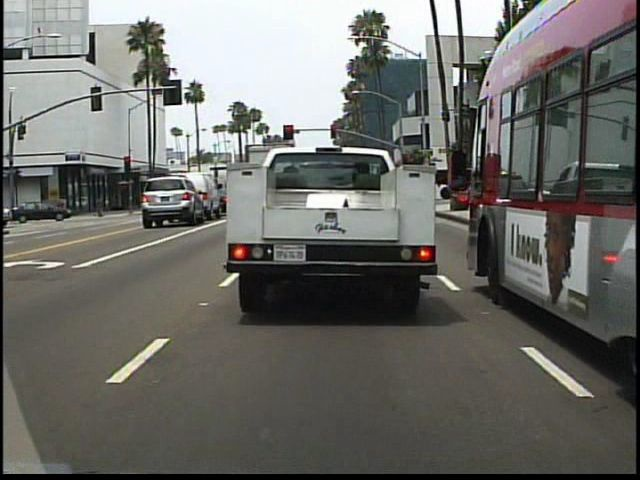person: (60, 192, 64, 221)
